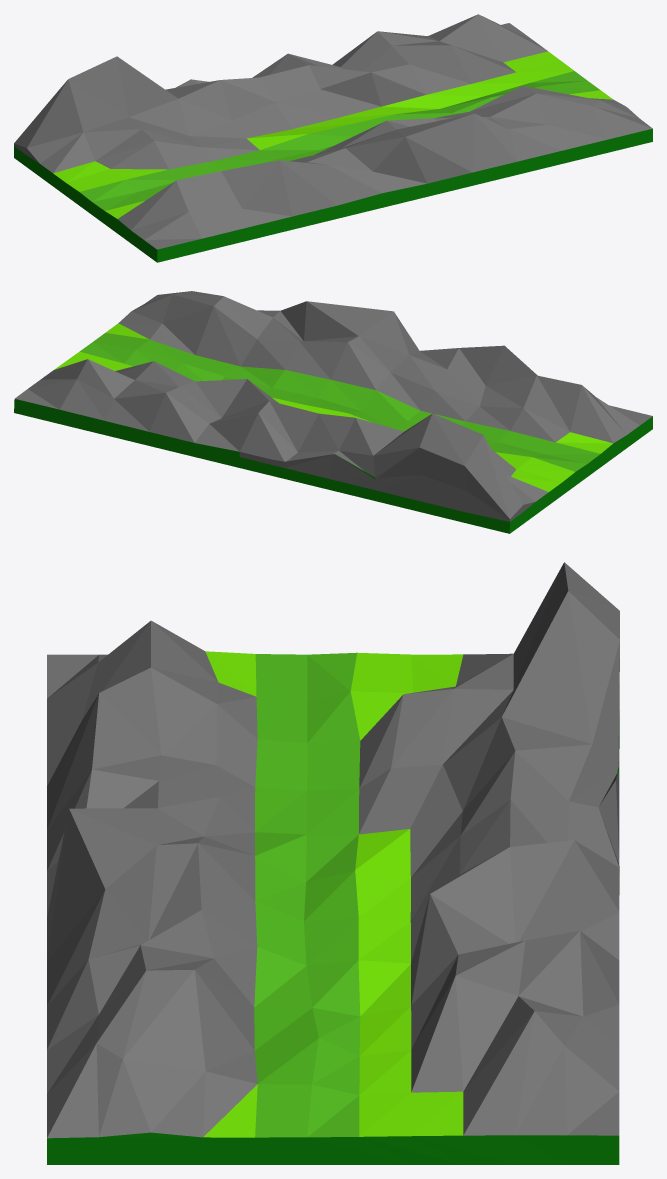
Rendered from PlaneSummer.fbx.
3 renders of one model, top to bottom at view 1: azimuth 30°, elevation 25°; view 2: azimuth 150°, elevation 25°; view 3: azimuth 270°, elevation 25°, orthographic. The views are drawn at different scales.
Parts seen in each view (by area): view 1: PlaneSummer; view 2: PlaneSummer; view 3: PlaneSummer.
Boxes of the visible parts, bbox=[...] form: PlaneSummer: bbox=[14, 14, 652, 262]; PlaneSummer: bbox=[14, 291, 652, 533]; PlaneSummer: bbox=[47, 562, 619, 1164].
Bounding box in the file's own units: 40034 × 6872 × 20026.
